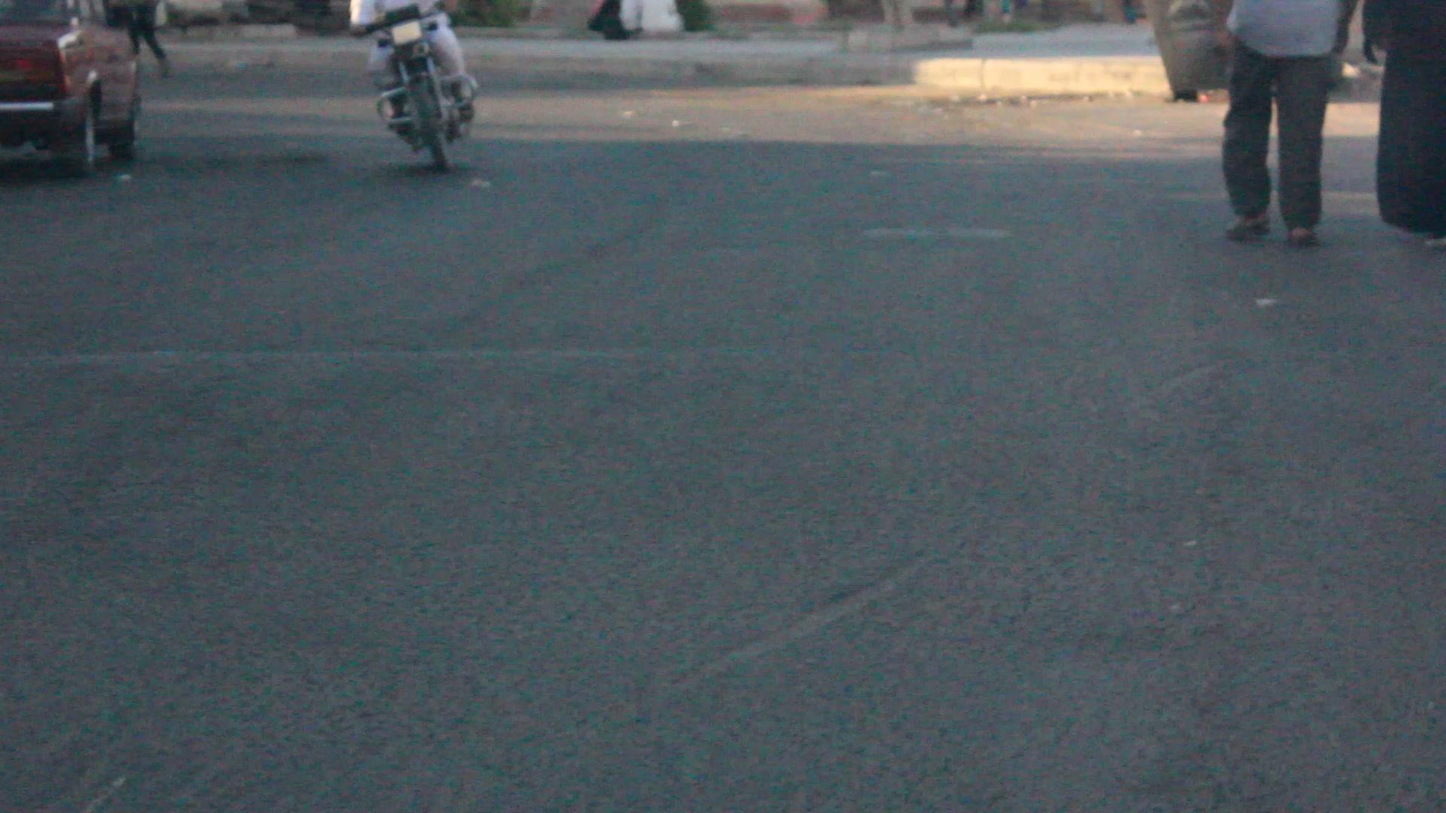Bump: (0, 337, 1446, 493)
